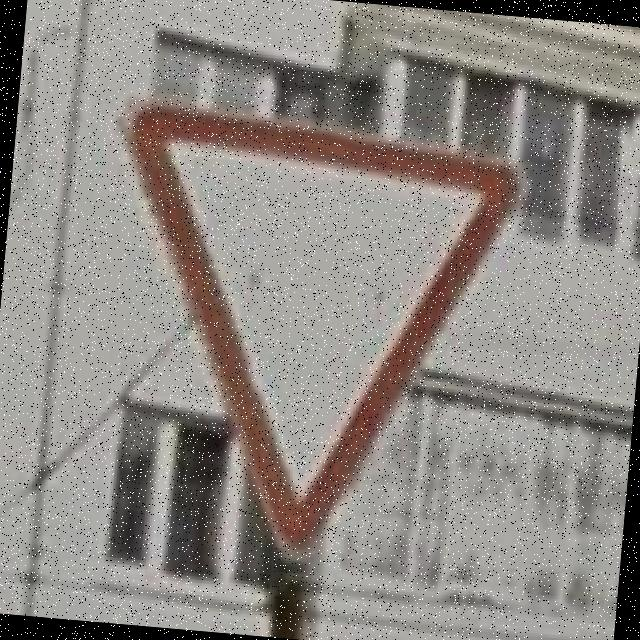Ustap pierwszenstwa: (83, 93, 530, 584)
